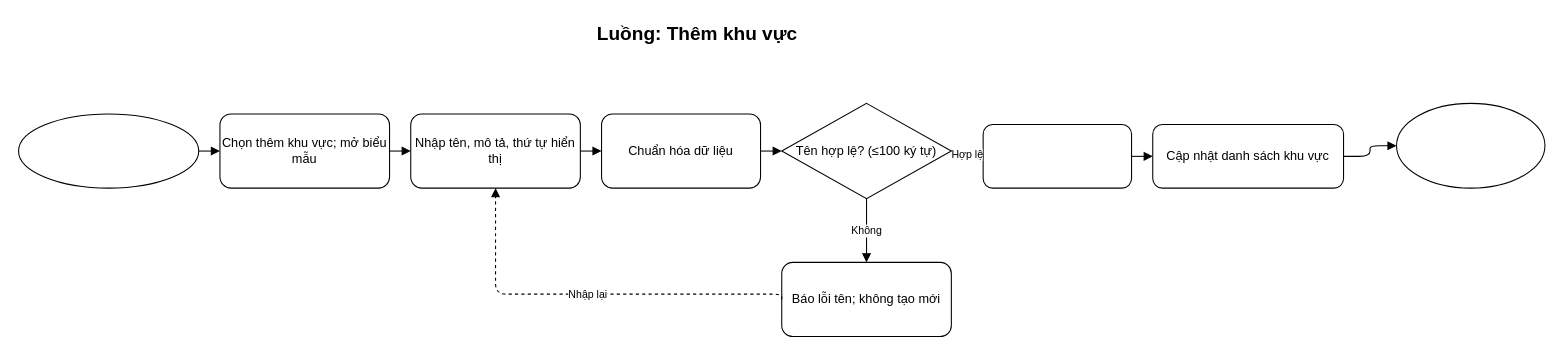
Some shapes in this 1563 by 355 pixel diagram are drawn without their labels. Each missing label, with the centre of its shape:
Kết thúc: the point at 1470,145
Mở màn hình bàn & khu vực: the point at 108,150
Tạo khu vực: the point at 1057,155
